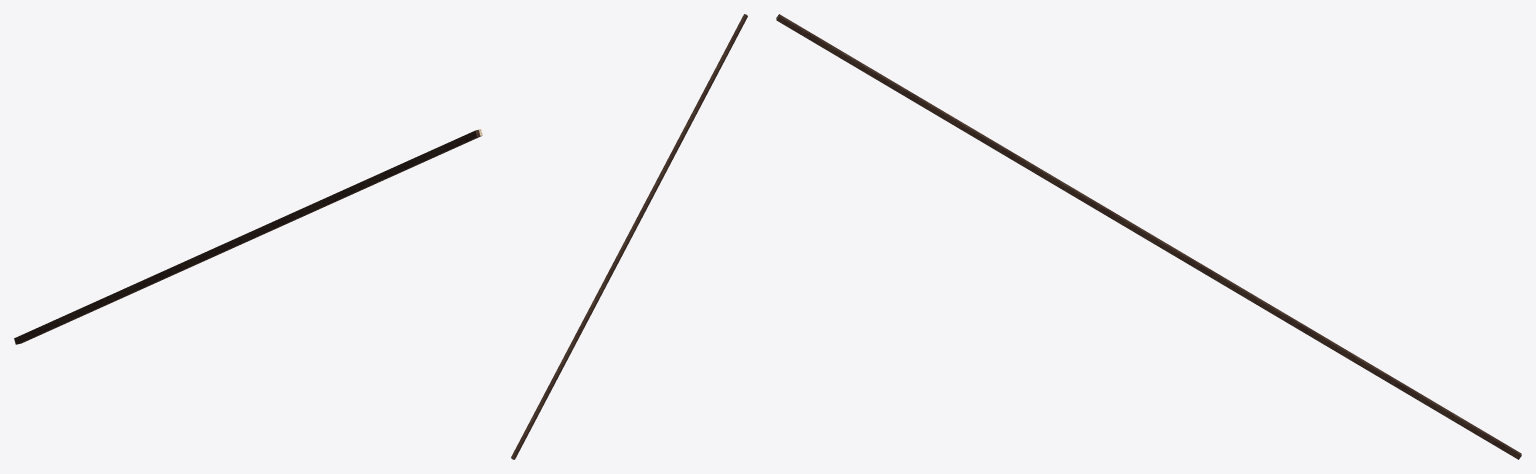
The model's file is Flagpole.fbx.
The picture shows the model from 3 angles, left to right: view 1: azimuth 30°, elevation 25°; view 2: azimuth 150°, elevation 25°; view 3: azimuth 270°, elevation 25°; orthographic projection. The views are drawn at different scales.
Parts seen in each view (by area): view 1: Flagpole; view 2: Flagpole; view 3: Flagpole.
Part boxes in pixels (<box>): Flagpole: <box>14,129,482,344</box>; Flagpole: <box>511,14,747,459</box>; Flagpole: <box>776,14,1521,459</box>.
Bounding box in the file's own units: 2.04 × 129 × 197.
1 material, 1 textured.
